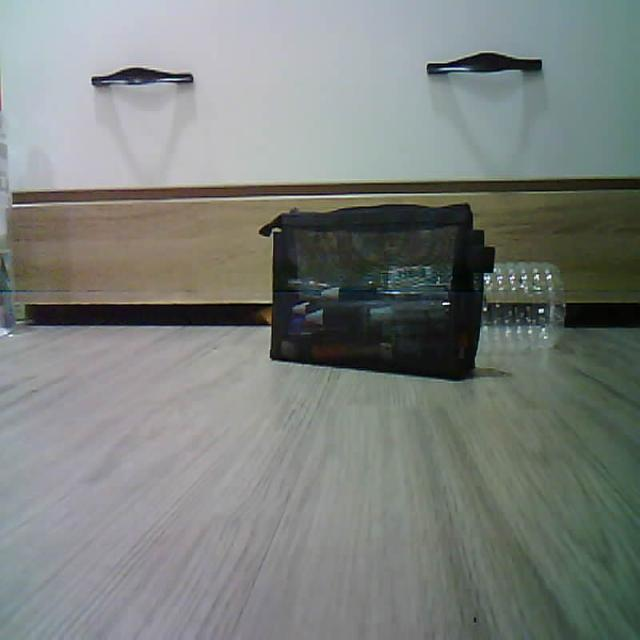bottle: (480, 262, 564, 353)
